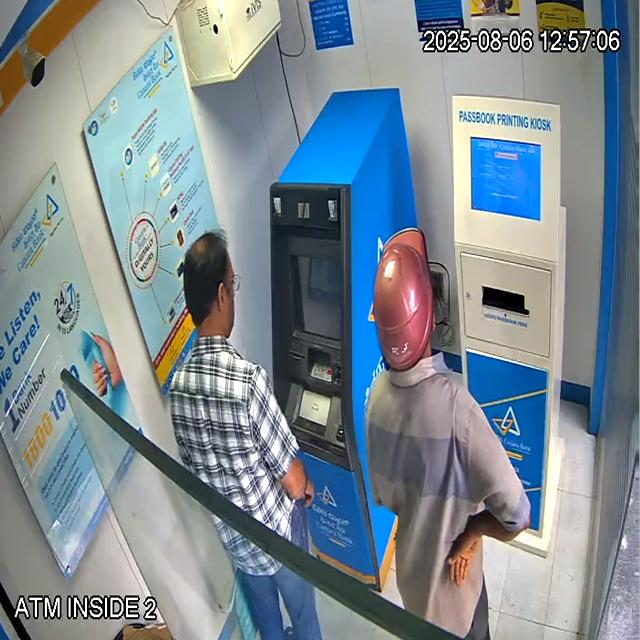helmet: (373, 227, 436, 371)
no_helmet: (183, 231, 235, 338)
